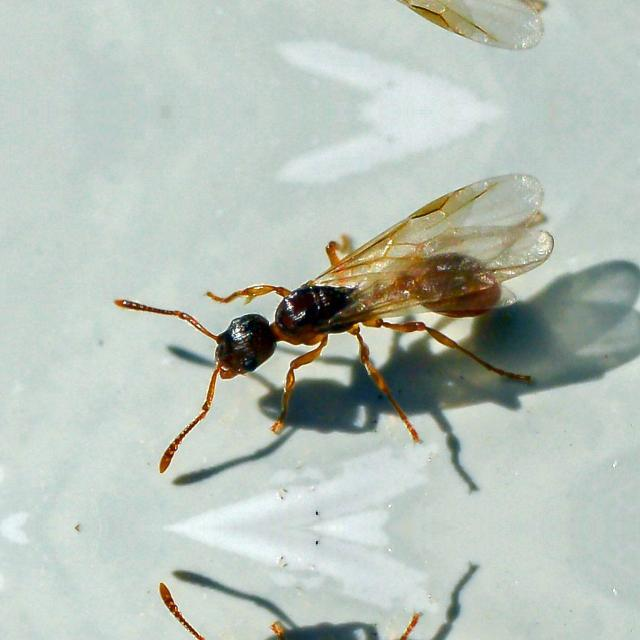Myrmica: (132, 192, 580, 424)
